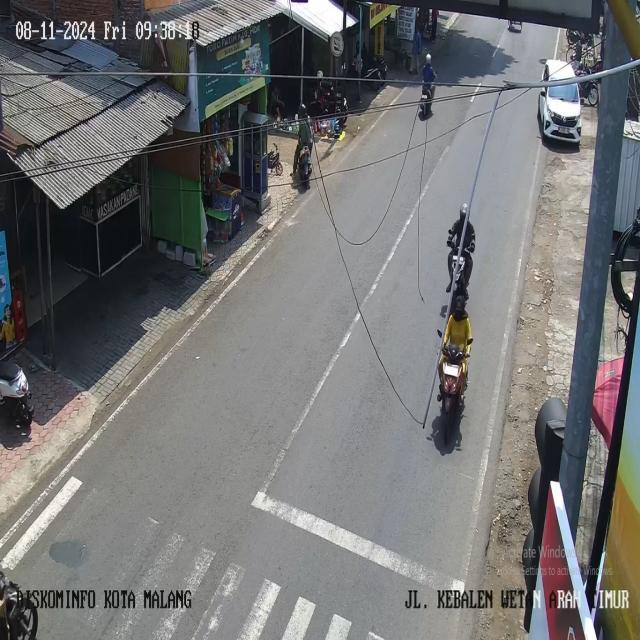Helmet: (453, 295, 465, 320), (454, 295, 465, 311), (460, 202, 467, 218), (298, 103, 306, 117), (425, 53, 430, 63), (317, 70, 322, 77)
Number Plate: (558, 126, 571, 134)
Rearview Mirror: (437, 329, 442, 337), (467, 338, 472, 344), (540, 89, 544, 96)
